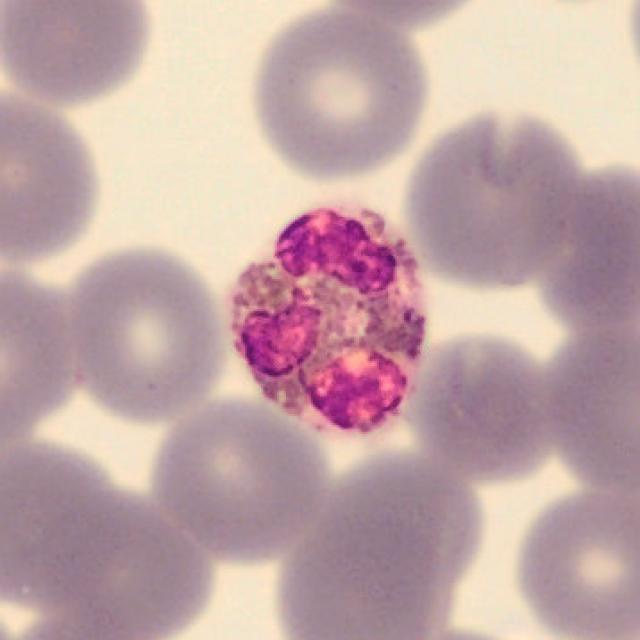Eosinofilo: (231, 206, 431, 460)
